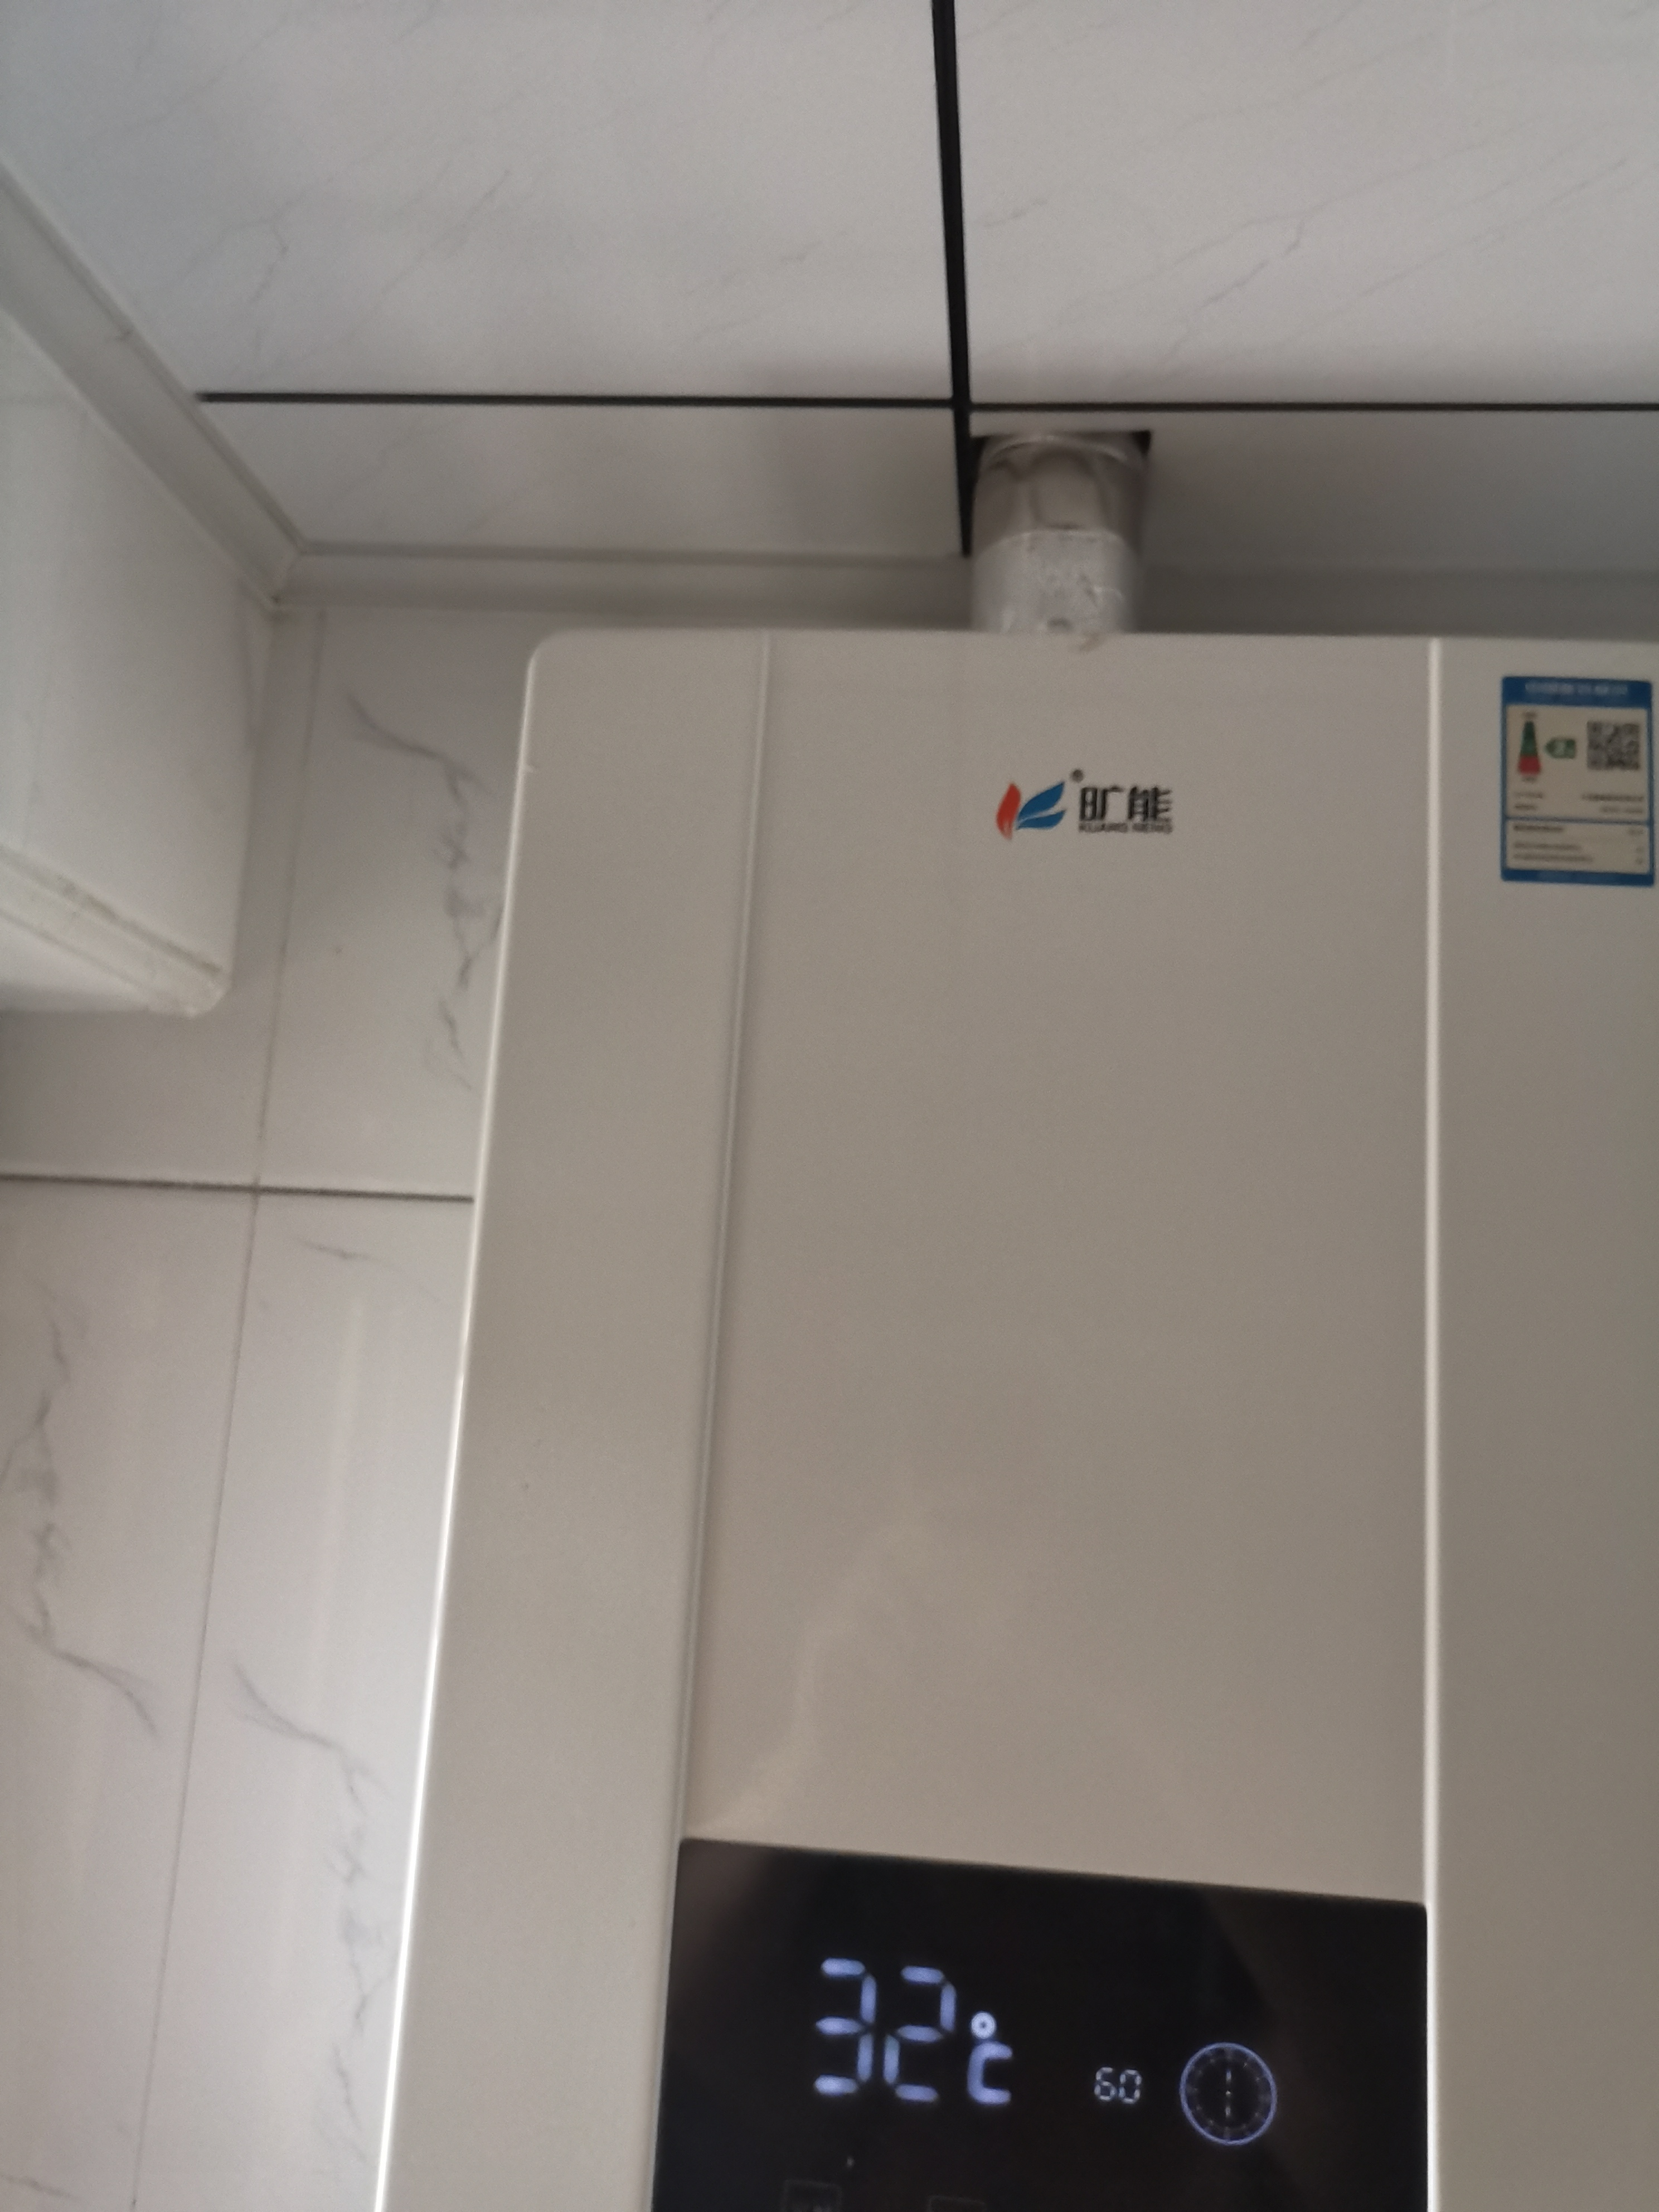loudou: (990, 747, 1204, 859)
